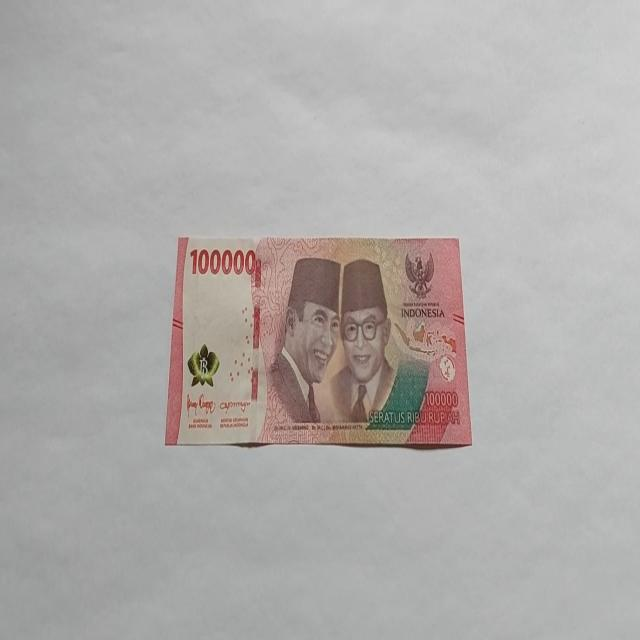seratus ribu rupiah: (165, 234, 472, 449)
